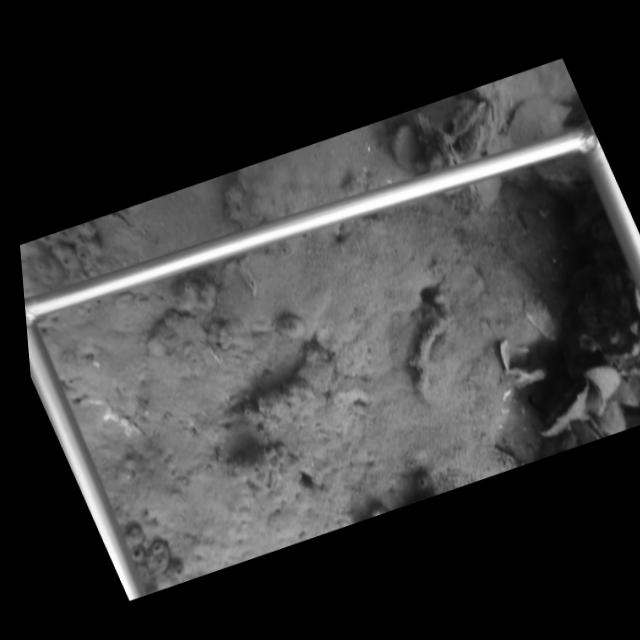Oyster-Closed: (461, 124, 487, 161), (587, 386, 607, 417), (413, 111, 431, 136)
Oyster-Indeterminate: (507, 96, 575, 148), (537, 375, 593, 434), (387, 123, 426, 176), (584, 366, 621, 401)
